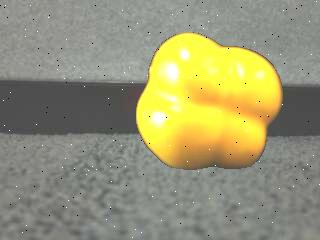Capsicum: (136, 31, 281, 170)
